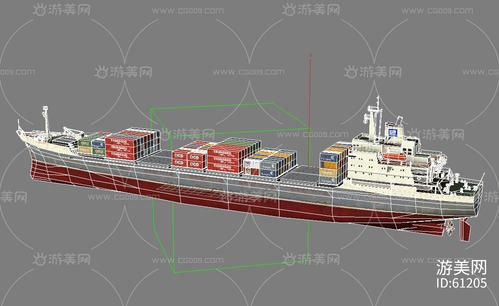Cargoship: (10, 103, 484, 245)
